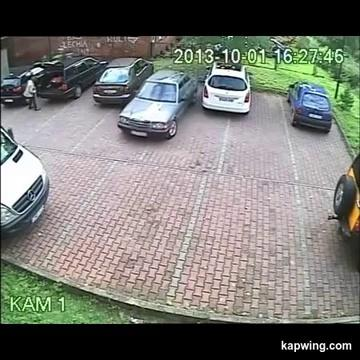car: (118, 69, 197, 138), (1, 126, 49, 236), (328, 153, 359, 270), (34, 55, 107, 98), (93, 57, 153, 104), (202, 61, 250, 113), (287, 81, 332, 132), (1, 65, 43, 105)
